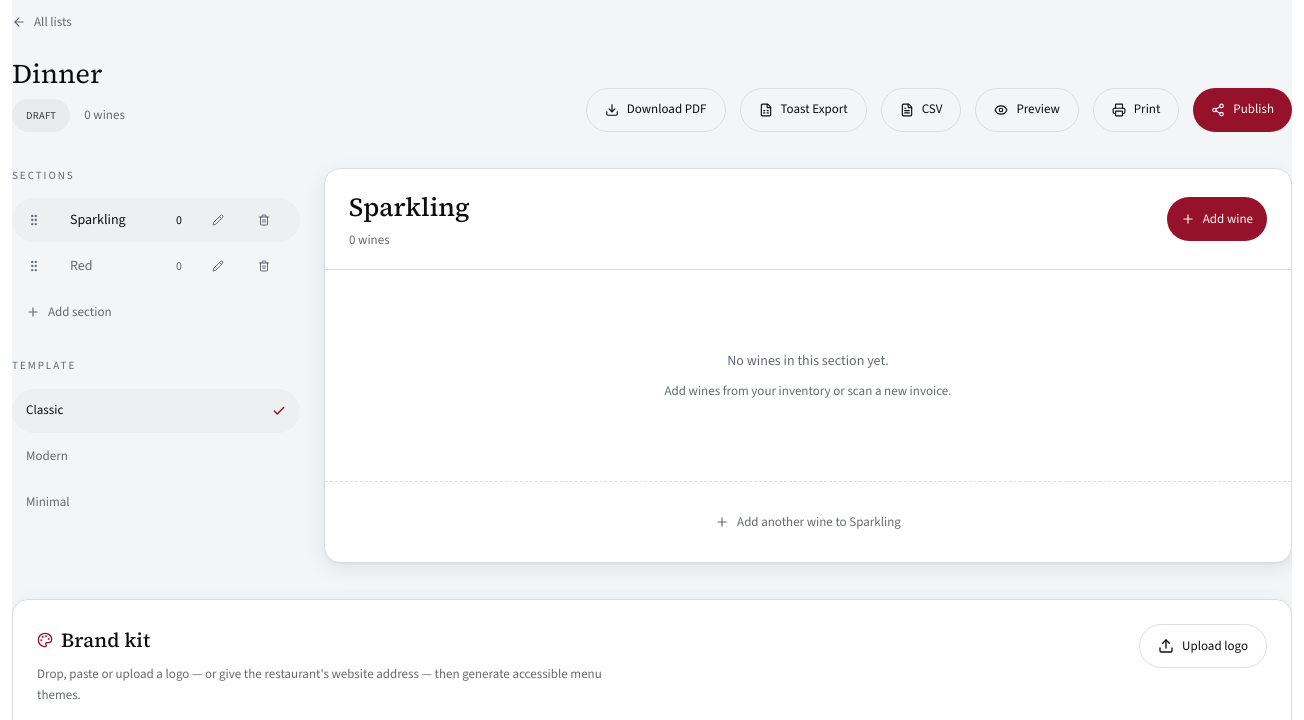
Test: surfaces a failed add instead of doing nothing visible
Click the button "Add wine": (1217, 219) [1167,197,1267,241]
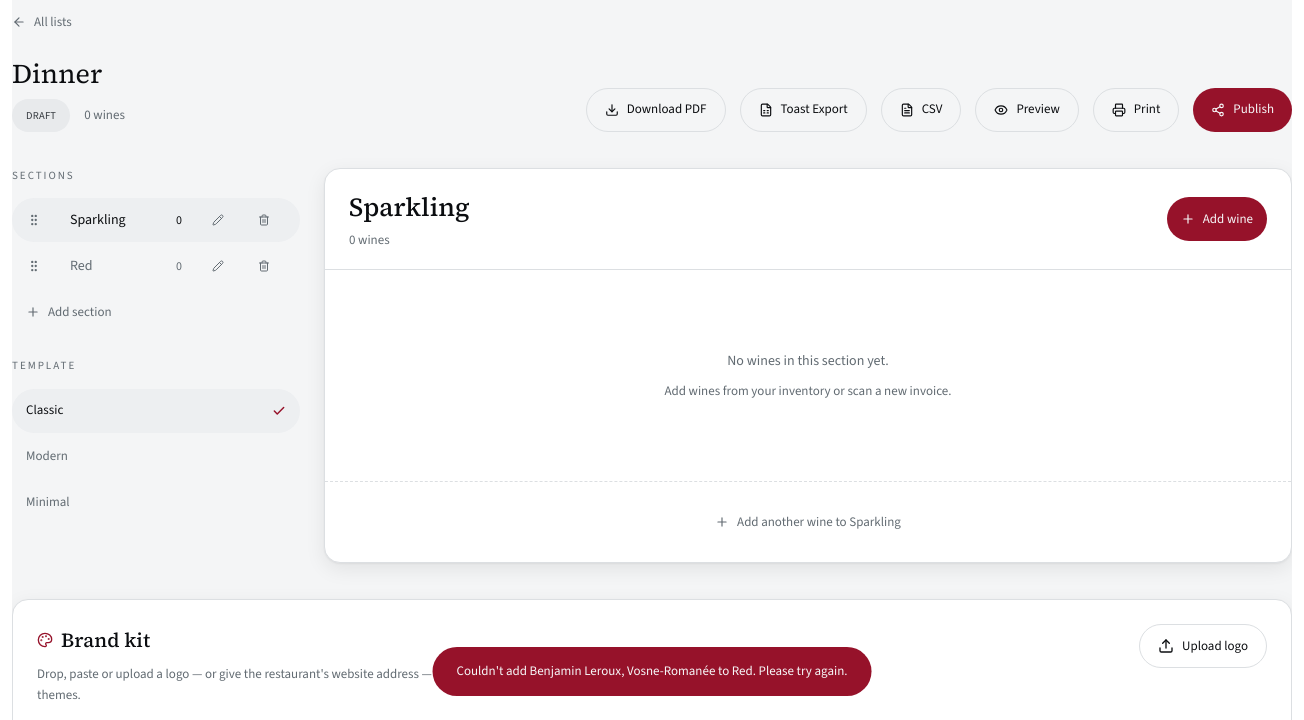
Now the text "Couldn't add Benjamin Leroux, Vosne-Romanée to Red. Please try again." is shown, box [432,647,872,696]
